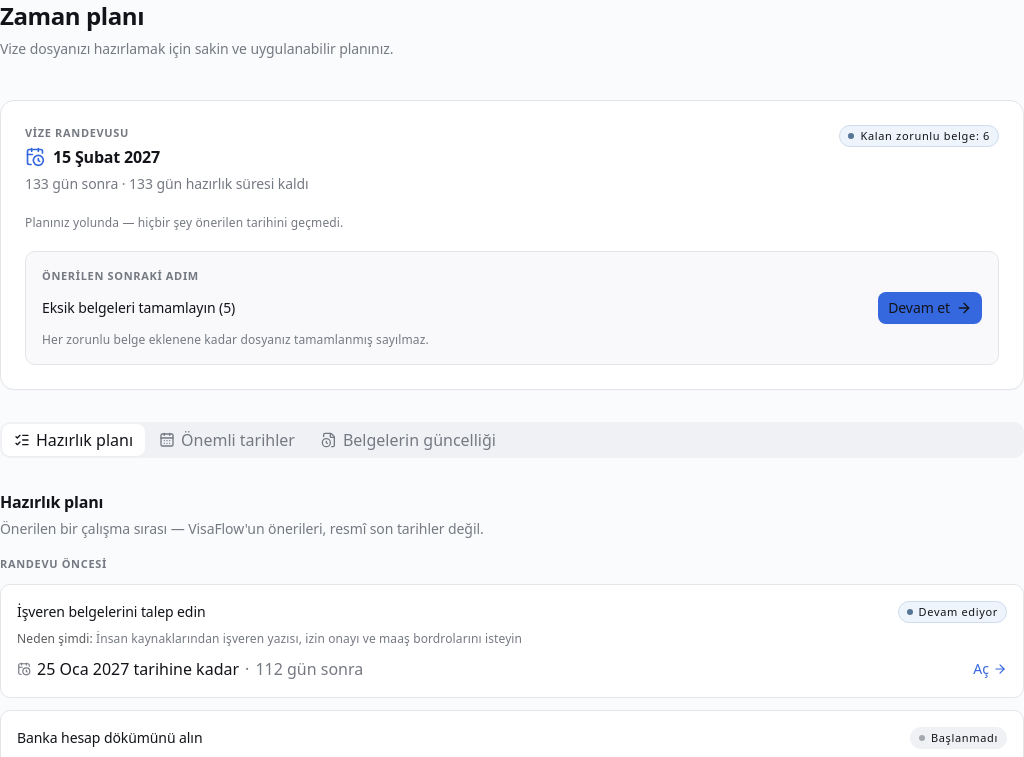
Test: Timeline — modes › switches to the freshness view via the mode selector
Click the radio button labelled "Belgelerin güncelliği" at (408, 440), box top-left (309, 424), bottom-right (508, 456)
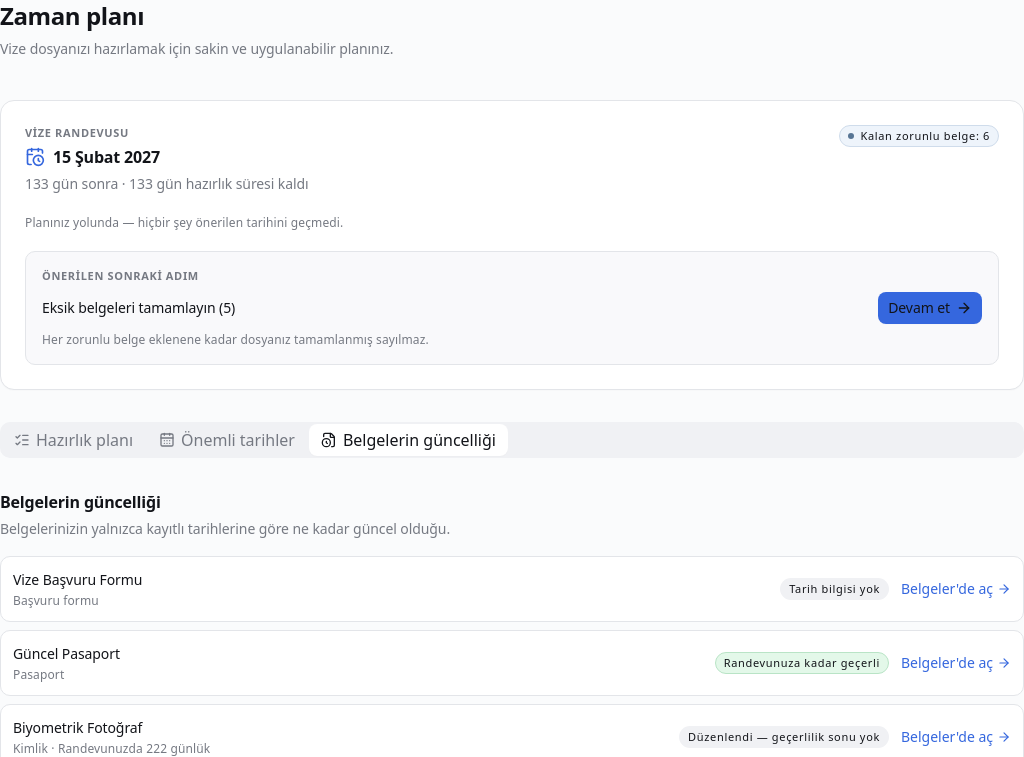
Check: the text "Belgelerinizin yalnızca kayıtlı tarihlerine göre ne kadar güncel olduğu." is shown, box top-left (0, 518), bottom-right (450, 540)
